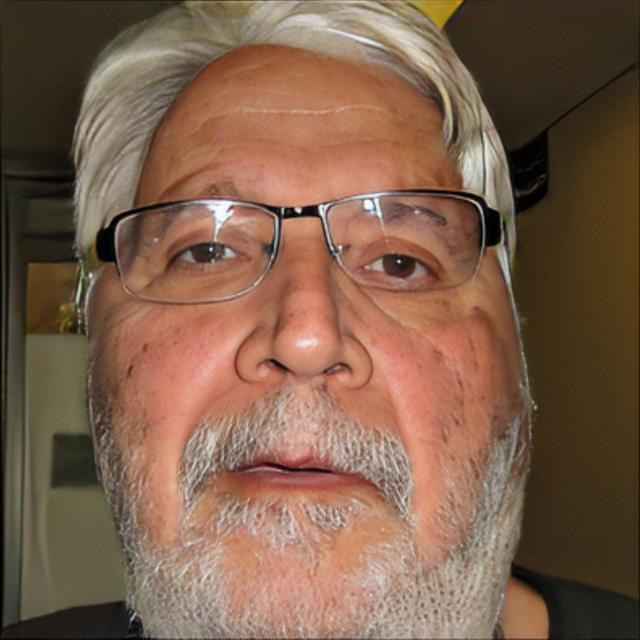neutral: (89, 46, 529, 636)
